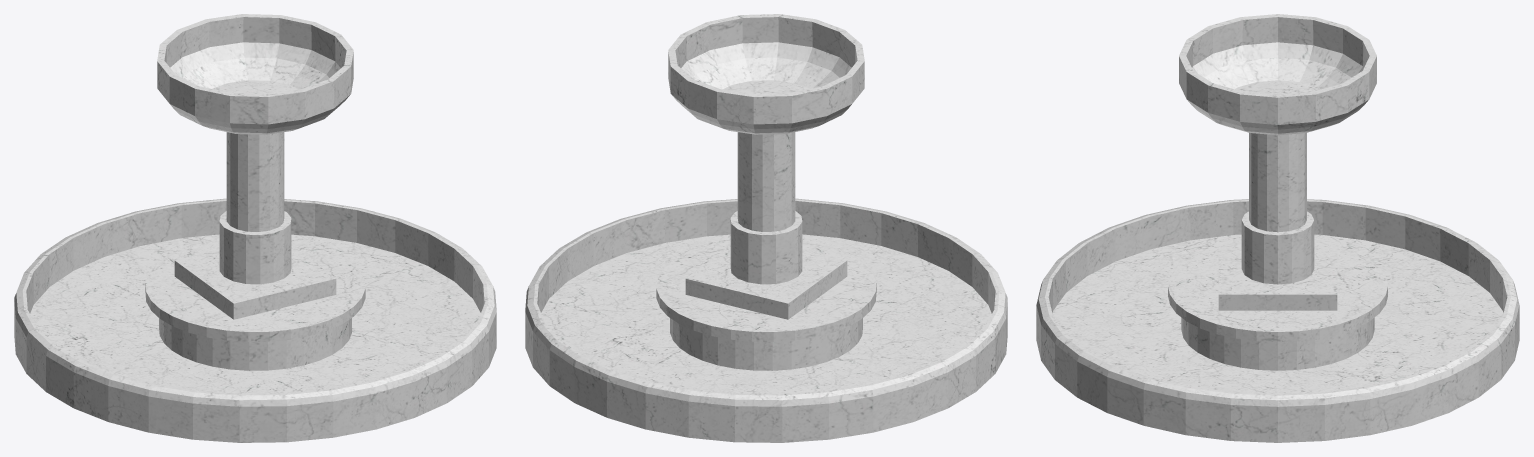
The model's file is water_funtain_01.glb.
3 views of the same model, side by side, from view 1: azimuth 30°, elevation 25°; view 2: azimuth 150°, elevation 25°; view 3: azimuth 270°, elevation 25° (orthographic).
Visible parts, largest first — view 1: Cylinder.004; view 2: Cylinder.004; view 3: Cylinder.004.
Boxes of the visible parts, x1,y1,x2,y2 form: Cylinder.004: [14, 14, 496, 442]; Cylinder.004: [525, 14, 1007, 442]; Cylinder.004: [1036, 14, 1519, 442].
Bounding box in the file's own units: 4 × 2.61 × 4.
Materials: 1 (1 with a texture image).
